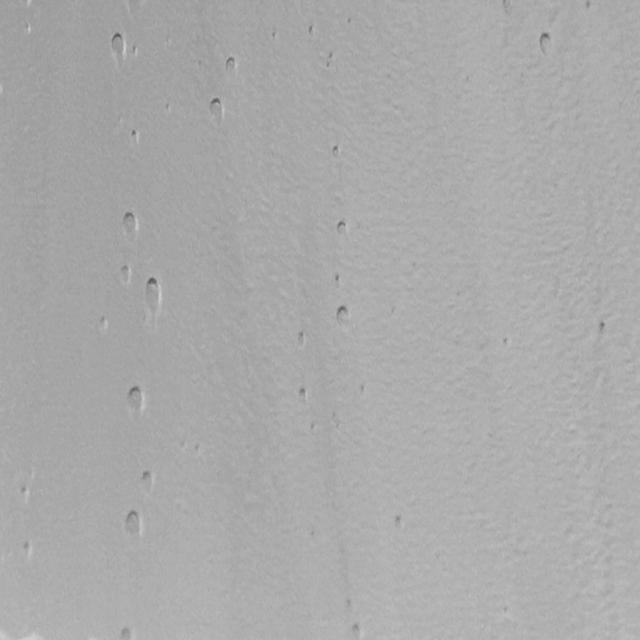pin holes: (141, 274, 166, 317), (121, 508, 146, 541), (123, 385, 148, 418), (119, 210, 141, 242), (108, 32, 130, 64), (206, 97, 227, 128), (535, 31, 558, 59), (333, 302, 354, 328), (138, 468, 158, 493), (221, 54, 241, 78), (594, 317, 613, 341), (118, 262, 136, 287), (332, 217, 352, 239), (18, 539, 36, 562), (347, 621, 366, 640), (295, 330, 311, 350), (393, 513, 409, 533), (297, 387, 312, 406), (118, 625, 137, 640), (18, 484, 32, 504), (345, 594, 357, 617), (330, 143, 345, 161), (98, 313, 111, 332), (305, 22, 319, 38), (130, 128, 142, 146), (326, 51, 338, 69), (332, 271, 345, 287), (502, 332, 513, 350), (358, 381, 370, 397), (308, 419, 320, 435), (269, 27, 280, 42), (162, 100, 172, 114), (194, 437, 202, 451)
